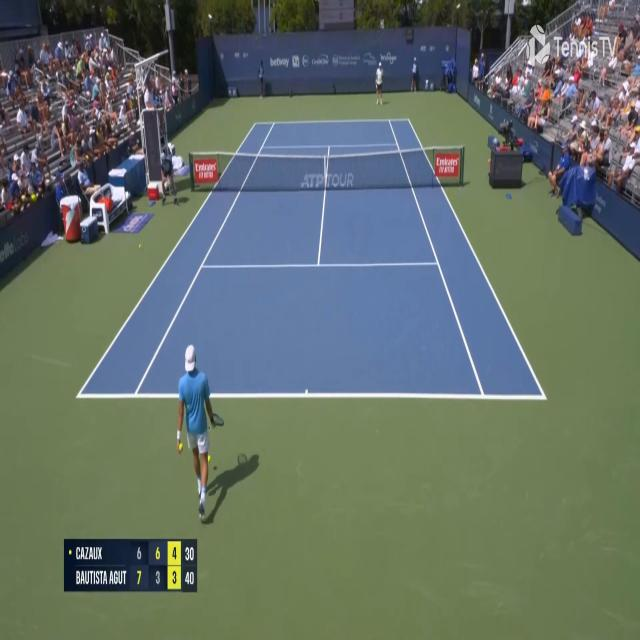tennis-player: (174, 340, 227, 522), (374, 60, 384, 105)
